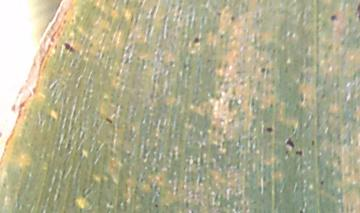tarspot: (284, 138, 296, 148), (355, 1, 360, 22), (63, 43, 74, 52), (105, 117, 114, 125), (310, 138, 317, 148), (329, 14, 338, 21), (294, 149, 303, 156), (230, 14, 236, 23), (266, 126, 273, 133), (192, 37, 200, 43), (260, 67, 267, 73), (219, 33, 225, 40), (153, 202, 159, 208), (319, 179, 325, 185), (299, 208, 304, 213)
